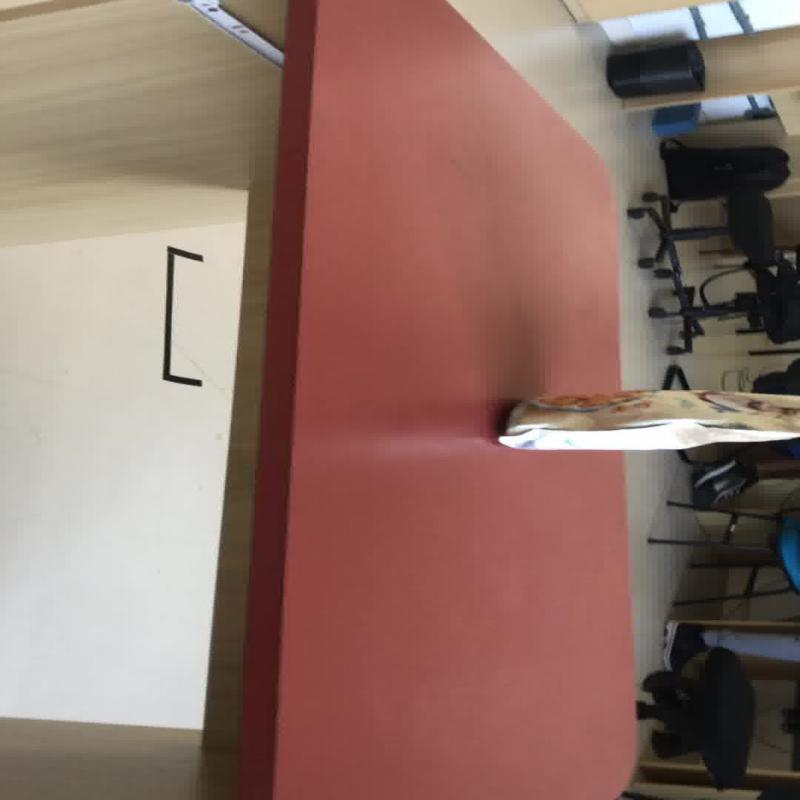corn flakes: (499, 388, 797, 448)
